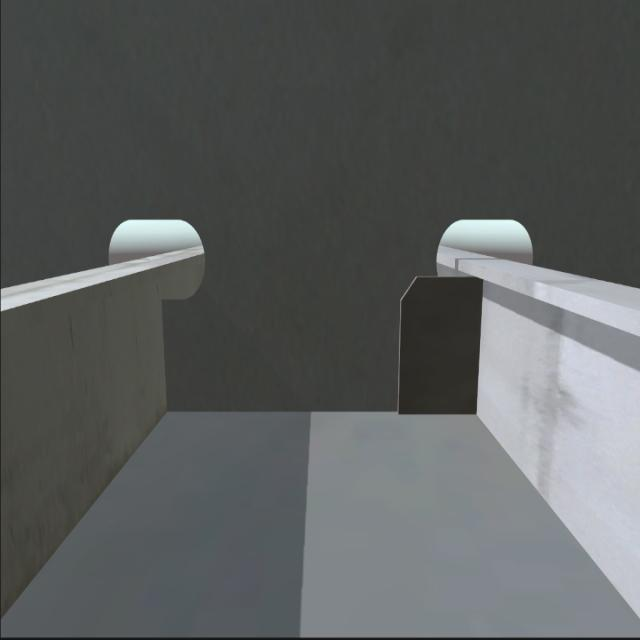fillet_yong_jeop_jang: (166, 408, 480, 421)
longi_yong_jeop_jang: (399, 272, 483, 411), (157, 298, 175, 409), (473, 276, 486, 419)
